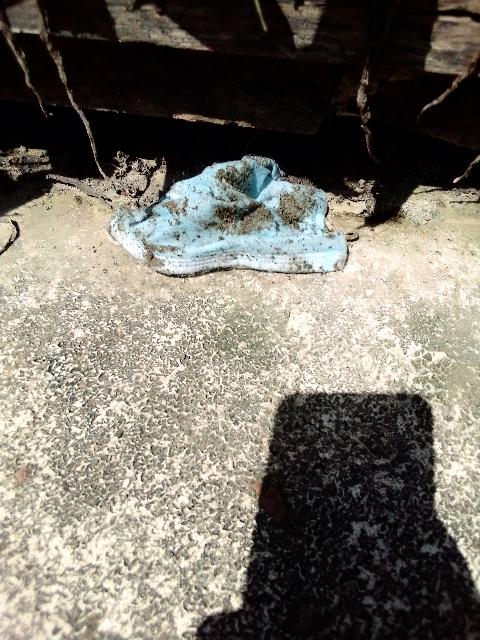mask: (121, 138, 359, 276)
